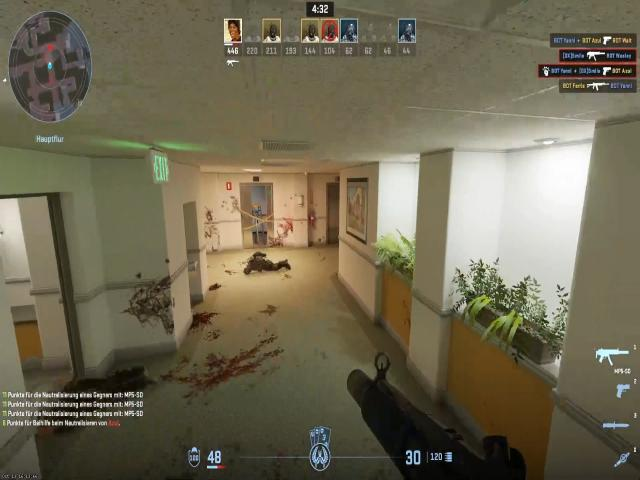Dead: (240, 252, 296, 277)
